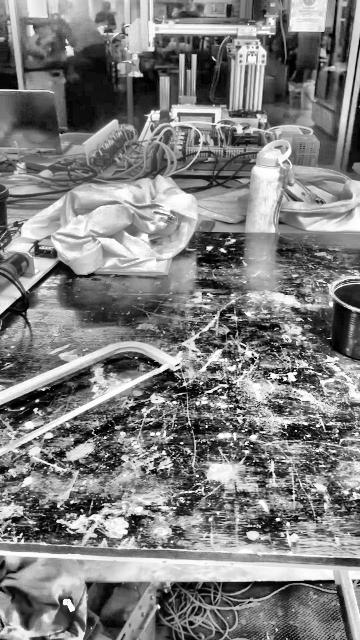pot: (329, 277, 360, 362)
